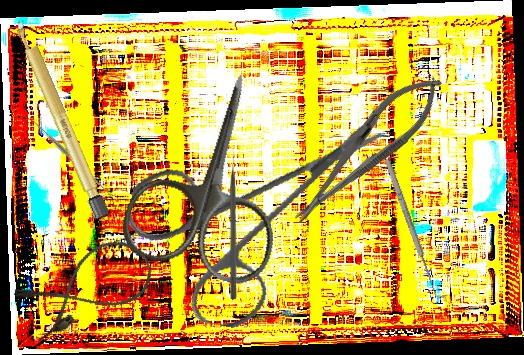Cannula: (10, 229, 162, 345)
Hook Surgical: (381, 154, 448, 303)
Iris Scissors: (110, 80, 384, 349), (114, 54, 316, 292)
Needle Holder: (279, 61, 455, 237)
Pusher: (230, 148, 238, 299)
Scalpel Handle: (11, 15, 112, 222)
Spatula Surgical: (29, 116, 118, 202)
